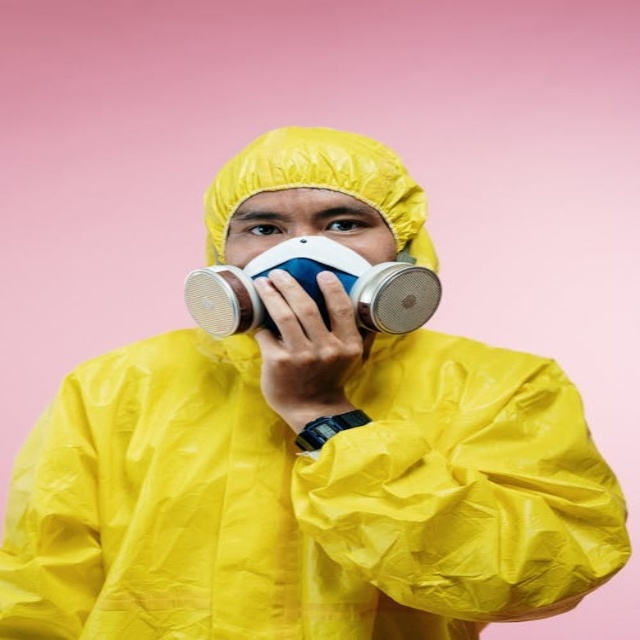Mascara: (187, 234, 441, 339)
Sin_gafas: (232, 206, 383, 230)
Sin_guantes: (250, 271, 367, 415)
